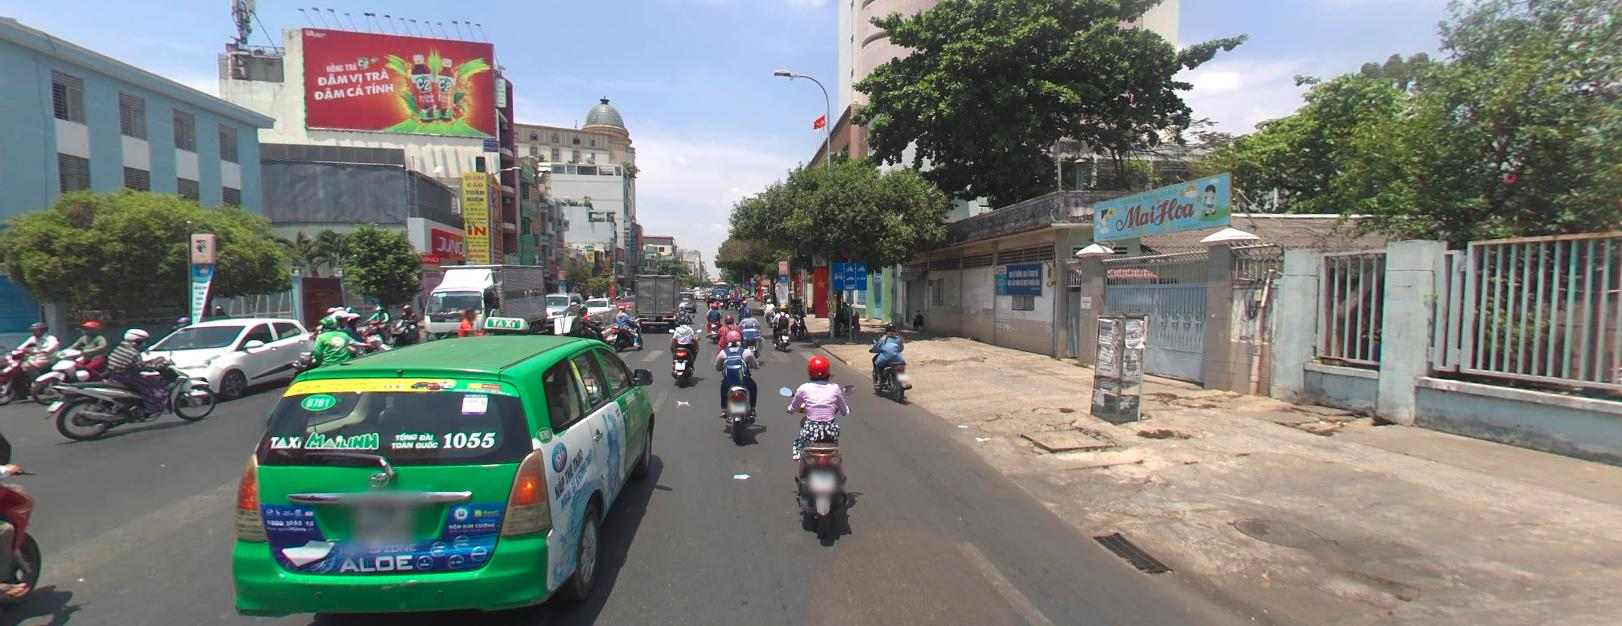Cam dung va do: (841, 239, 857, 256)
